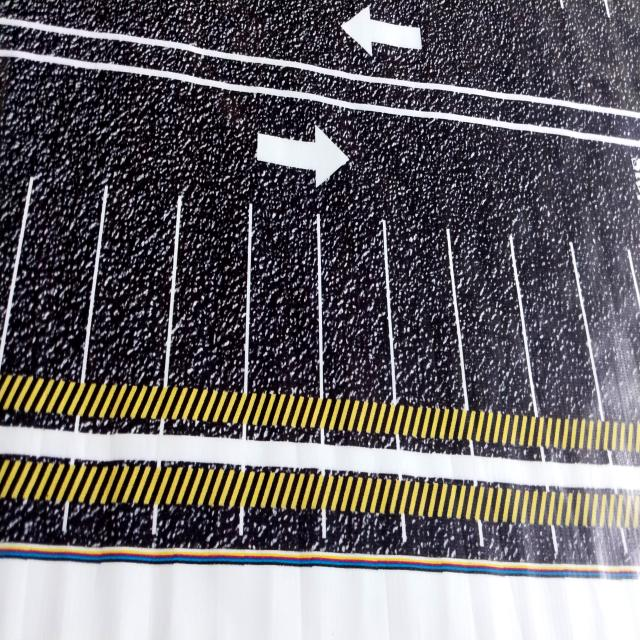slots: (0, 153, 104, 380), (86, 141, 180, 383), (512, 188, 598, 417), (169, 183, 248, 390), (451, 218, 534, 414), (386, 220, 464, 409), (320, 197, 392, 401), (249, 202, 319, 395), (573, 235, 640, 420)
